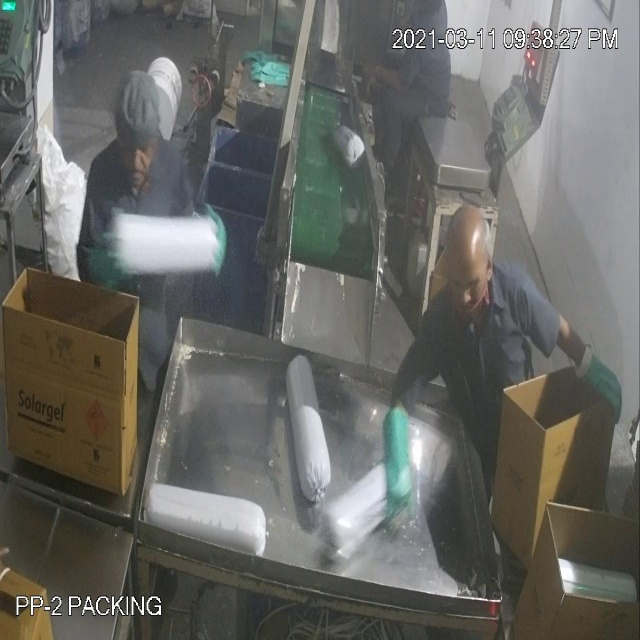Guantes: (569, 326, 630, 431), (378, 404, 421, 530)
